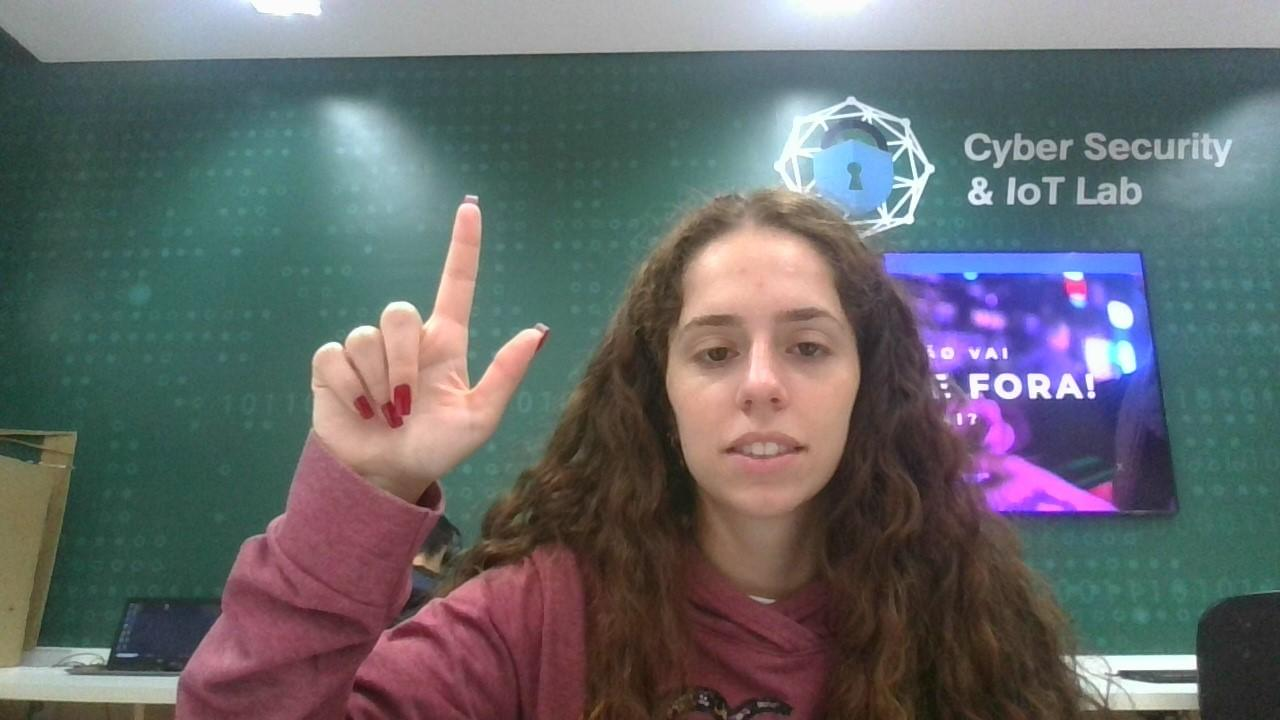L: (288, 172, 568, 500)
